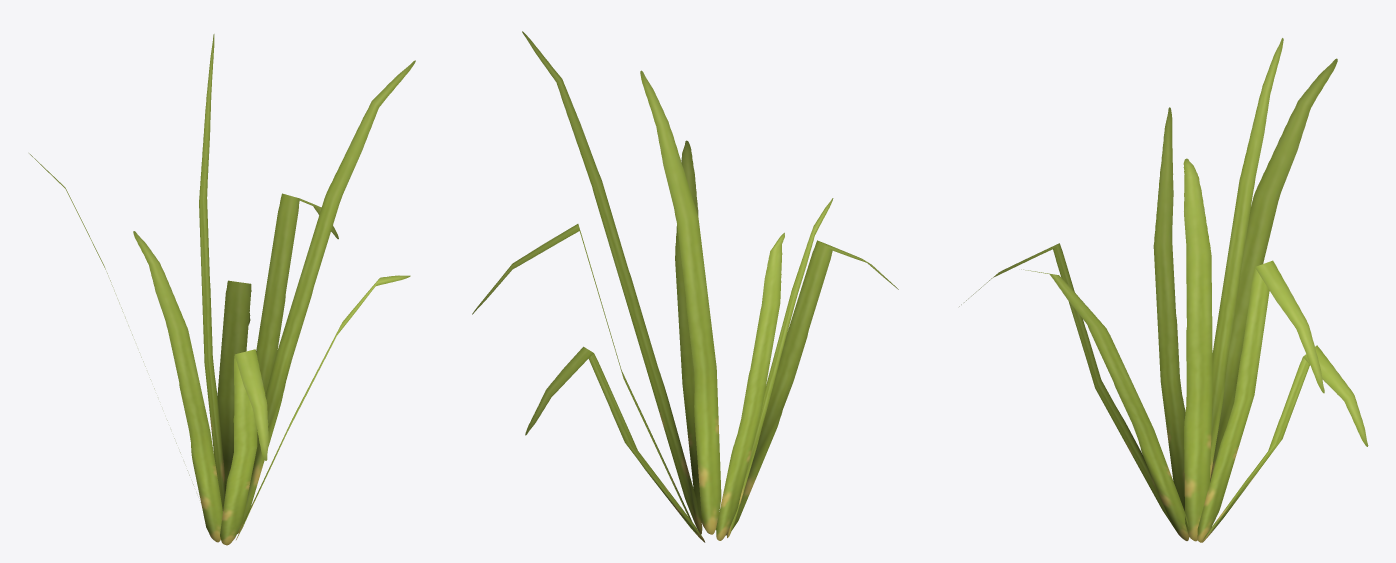
Rendered from grass 01_lod1.obj.
3 views of the same model, side by side, from view 1: azimuth 30°, elevation 25°; view 2: azimuth 150°, elevation 25°; view 3: azimuth 270°, elevation 25° (orthographic). The views are drawn at different scales.
Parts seen in each view (by area): view 1: tree; view 2: tree; view 3: tree.
Boxes of the visible parts, box(x1,y1,x2,y2) form: tree: box(29, 34, 415, 545); tree: box(472, 31, 898, 542); tree: box(959, 38, 1368, 542).
Bounding box in the file's own units: 80.05 × 110 × 81.07.
